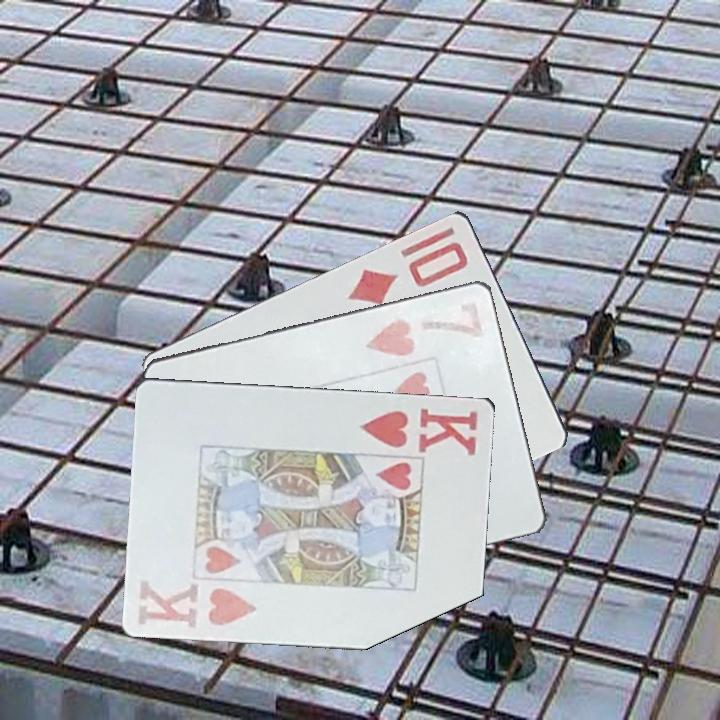7h: (362, 296, 487, 359)
Kh: (355, 404, 481, 458), (134, 576, 260, 630)
Td: (343, 237, 472, 308)
